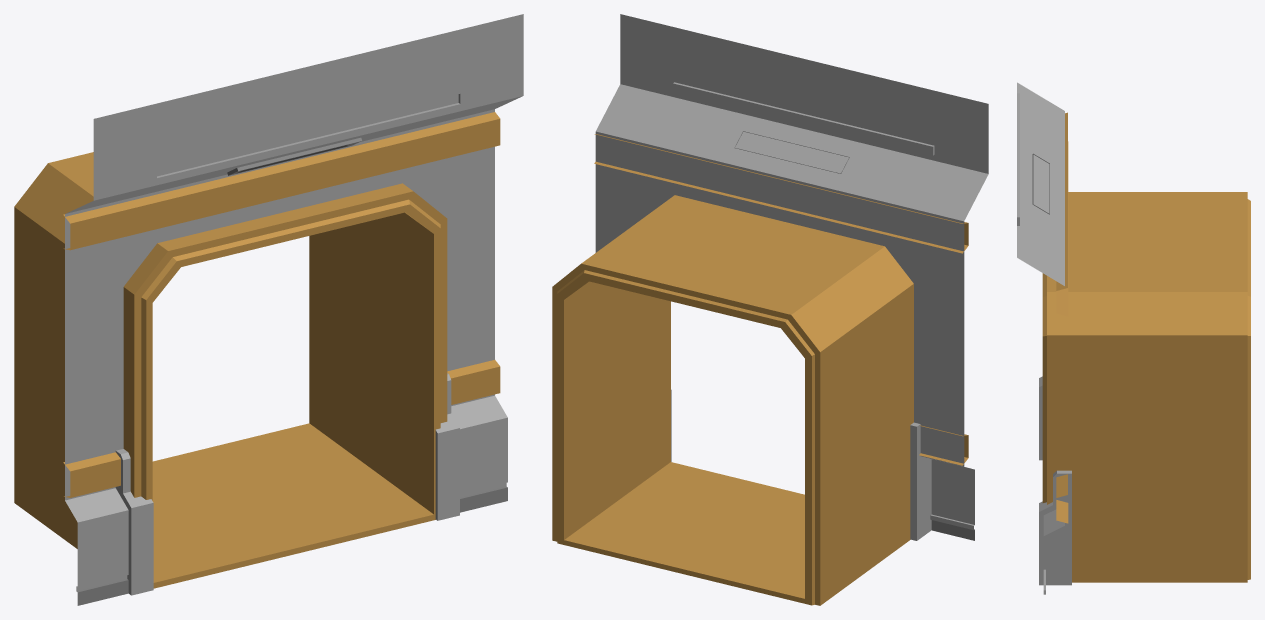
The model's file is DoorDoubleLong_Wall_SideA.fbx.
The picture shows the model from 3 angles, left to right: view 1: azimuth 30°, elevation 25°; view 2: azimuth 150°, elevation 25°; view 3: azimuth 270°, elevation 25°; orthographic projection. The views are drawn at different scales.
Visible parts, largest first — view 1: DoorDoubleLong_Wall_SideA; view 2: DoorDoubleLong_Wall_SideA; view 3: DoorDoubleLong_Wall_SideA.
Boxes of the visible parts, x1=… form: DoorDoubleLong_Wall_SideA: x1=14, y1=14, x2=523, y2=605; DoorDoubleLong_Wall_SideA: x1=552, y1=14, x2=988, y2=605; DoorDoubleLong_Wall_SideA: x1=1017, y1=82, x2=1250, y2=594.
Bounding box in the file's own units: 4 × 4.44 × 2.25.
